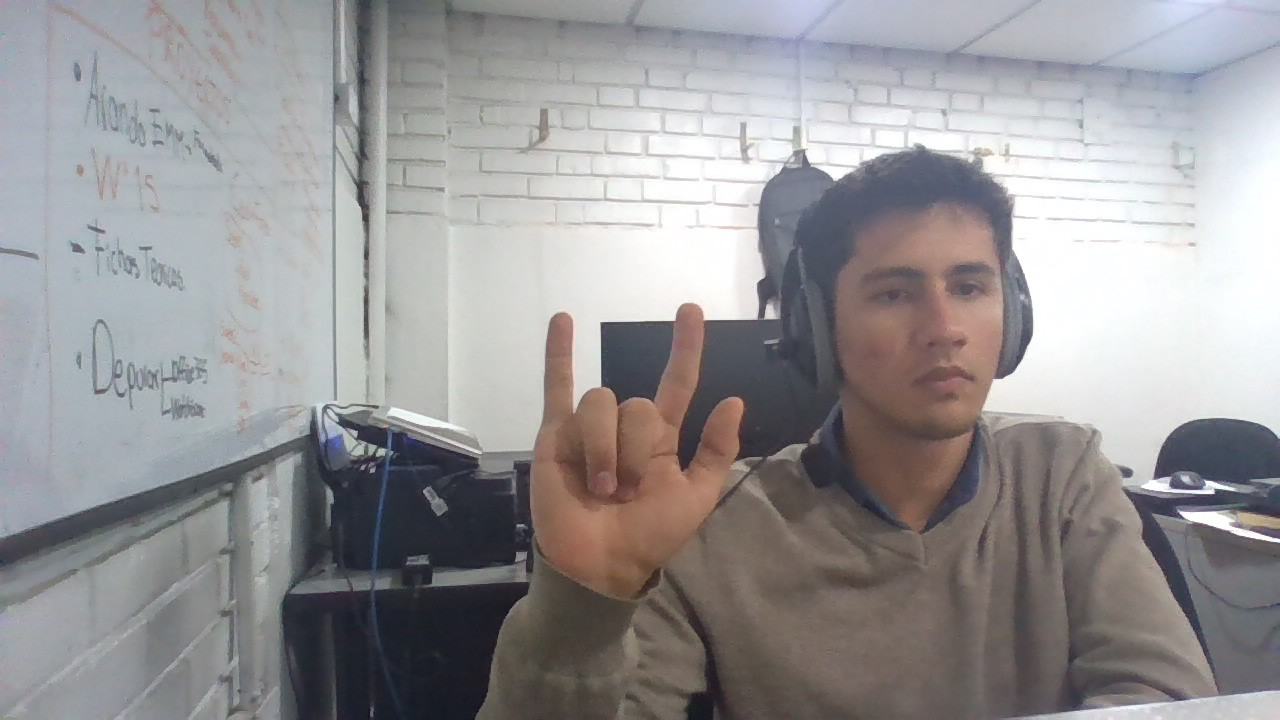te_amo: (522, 288, 749, 596)
